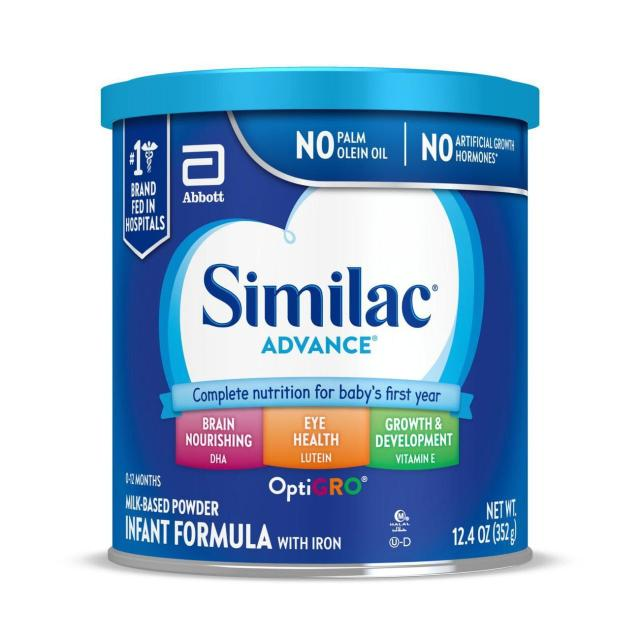formula-milk: (115, 110, 542, 562)
